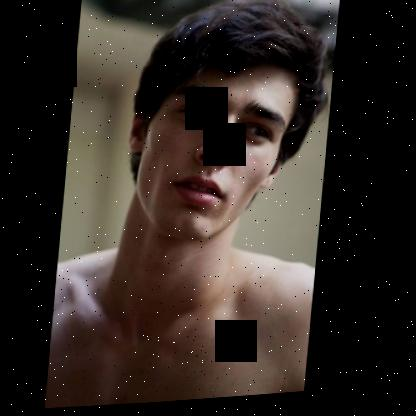Male: (120, 68, 295, 243)
